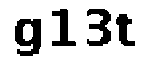1: (48, 6, 78, 53)
3: (84, 5, 112, 49)
g: (10, 16, 46, 60)
t: (116, 10, 140, 51)
